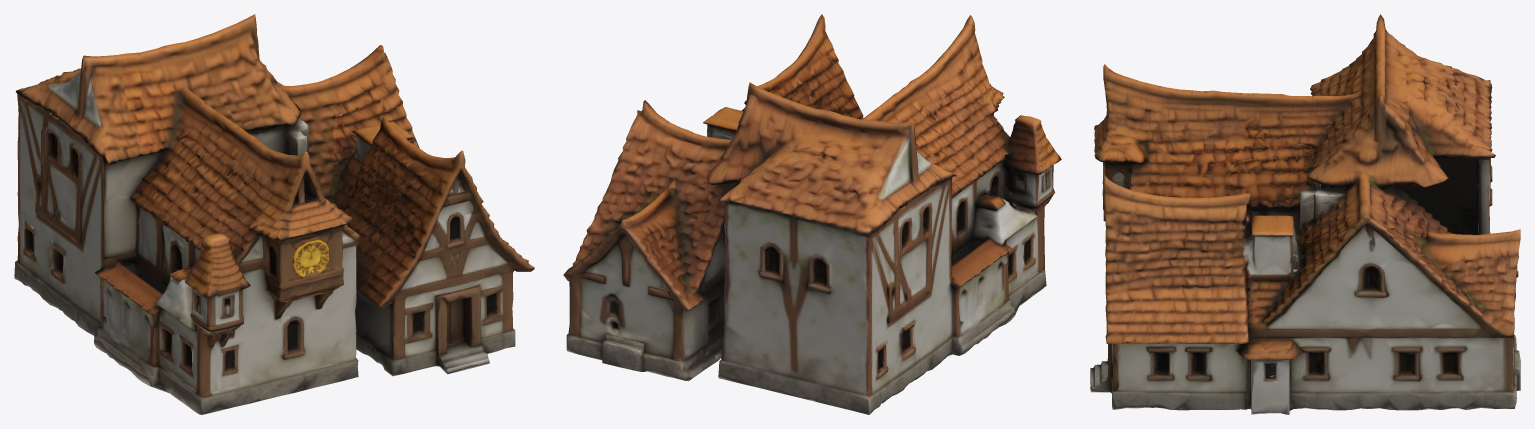
File: poi_town.glb
The picture shows the model from 3 angles, left to right: view 1: azimuth 30°, elevation 25°; view 2: azimuth 150°, elevation 25°; view 3: azimuth 270°, elevation 25°; orthographic projection. The views are drawn at different scales.
Parts seen in each view (by area): view 1: Village; view 2: Village; view 3: Village.
Part boxes in pixels (bbox=[...]): Village: bbox=[14, 14, 534, 414]; Village: bbox=[563, 14, 1061, 414]; Village: bbox=[1090, 14, 1520, 414].
Size of the model in its own units: 1.67 by 1.25 by 1.91.
1 material, 1 textured.
